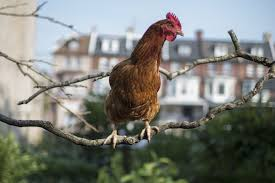chicken: (91, 14, 192, 156)
